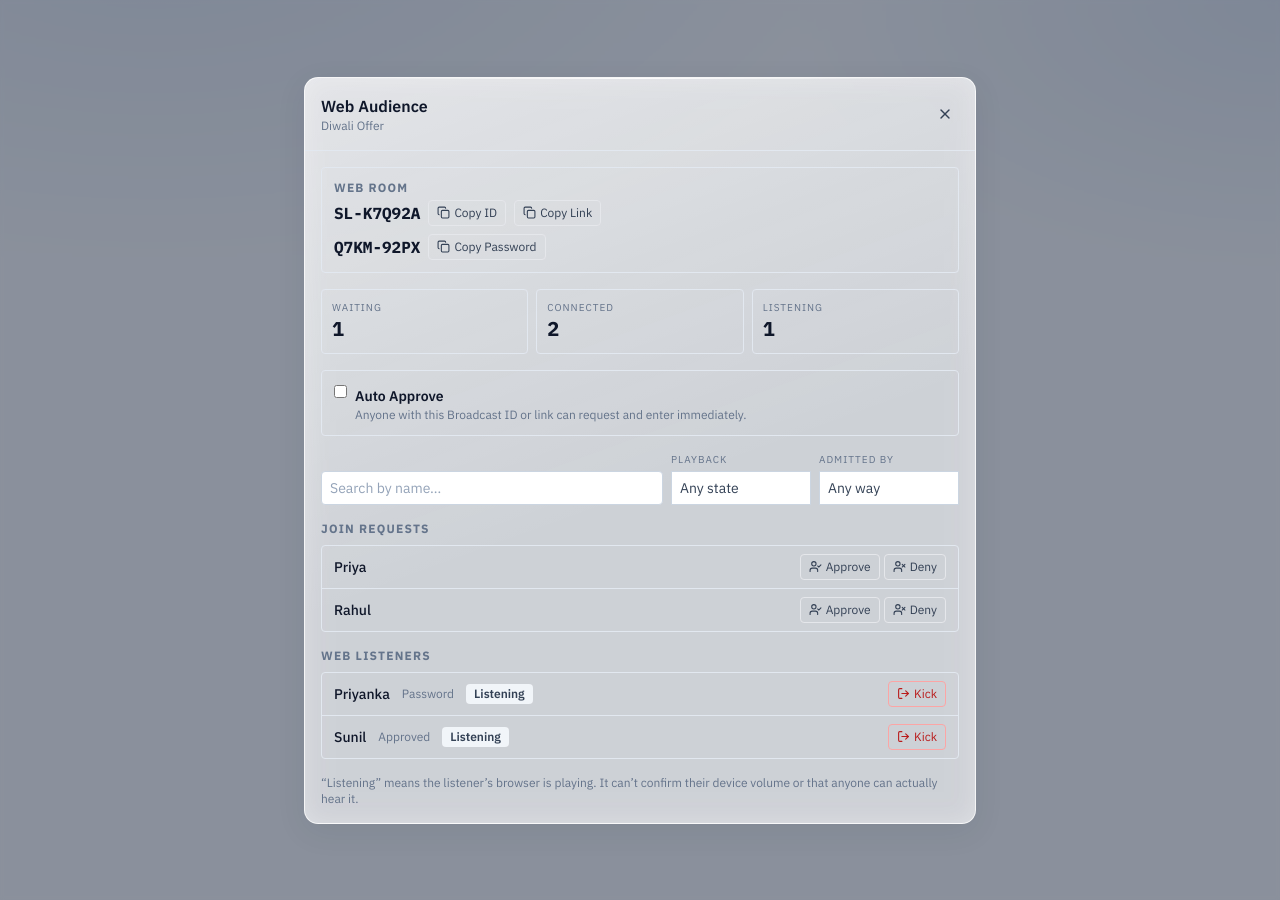
Test: the audience can be searched by name, across both lists
Type "priy" into the field with test id "supervised-audience-search" at (492, 488), box [321,470,663,504]
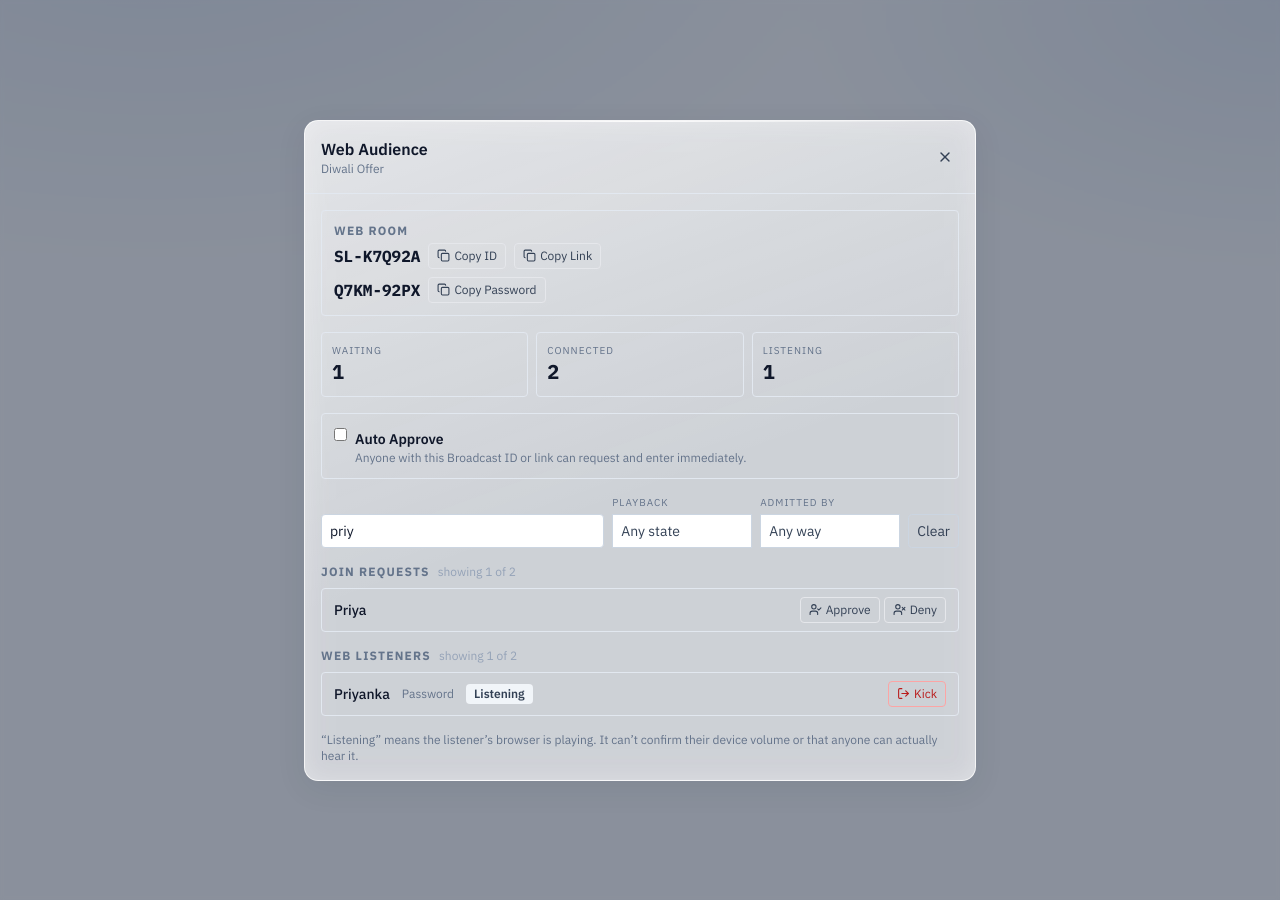
expect the list item with test id "supervised-waiting-1" is shown: met, box [322,588,958,630]
expect the list item with test id "supervised-waiting-2" is gone: met
expect the list item with test id "supervised-listener-4" is gone: met
